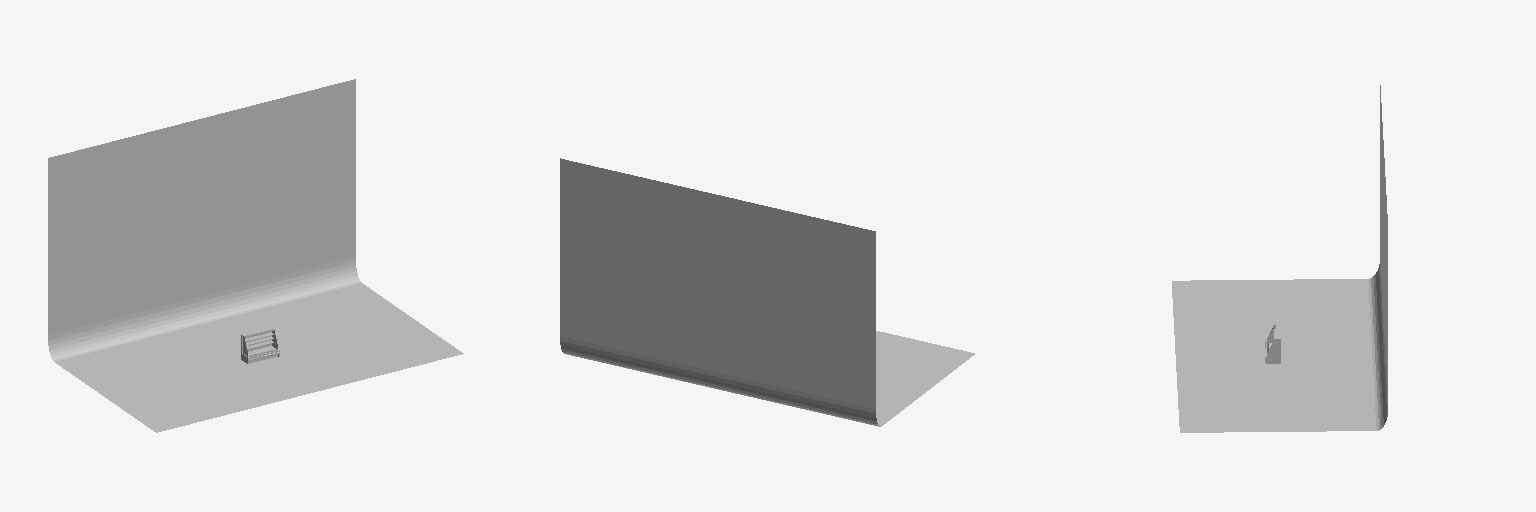
The model's file is STORE FRIDGE.obj.
The picture shows the model from 3 angles: view 1: azimuth 30°, elevation 25°; view 2: azimuth 150°, elevation 25°; view 3: azimuth 270°, elevation 25°; orthographic projection.
Parts seen in each view (by area): view 1: Plane; view 2: Plane; view 3: Plane.
Part boxes in pixels (left/top/right/bottom): Plane: left=48, top=79, right=463, bottom=432; Plane: left=560, top=158, right=974, bottom=426; Plane: left=1172, top=85, right=1387, bottom=432.
Bounding box in the file's own units: 24.19 × 14.59 × 14.37.